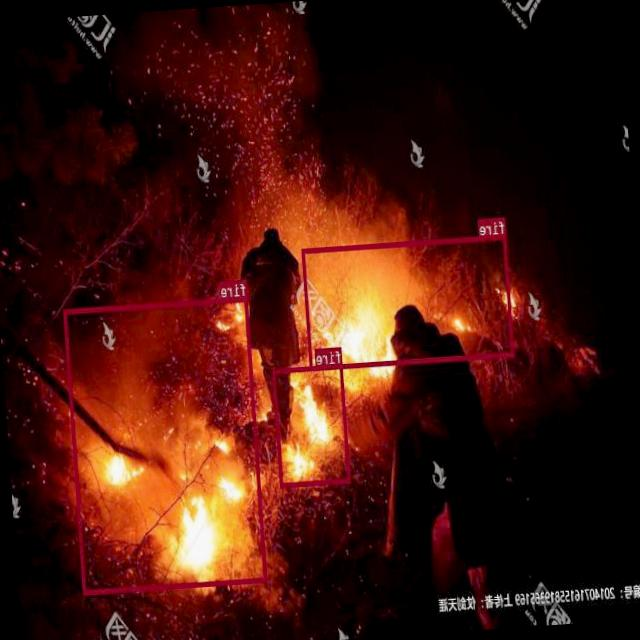fire: (64, 296, 267, 593), (302, 234, 515, 370), (273, 363, 351, 486)
